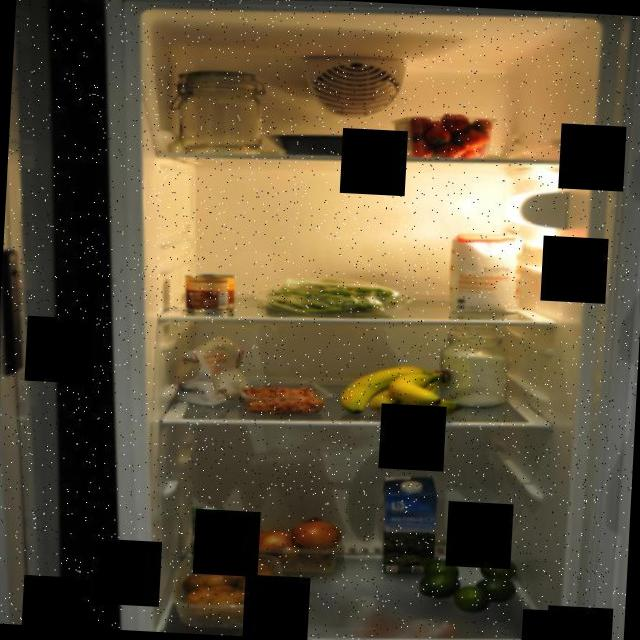Cebolla: (221, 511, 347, 578)
Gambas/Langostinos: (238, 382, 326, 419)
Leche: (376, 472, 444, 578)
Patata: (170, 546, 288, 633)
Plátano: (336, 358, 467, 424)
